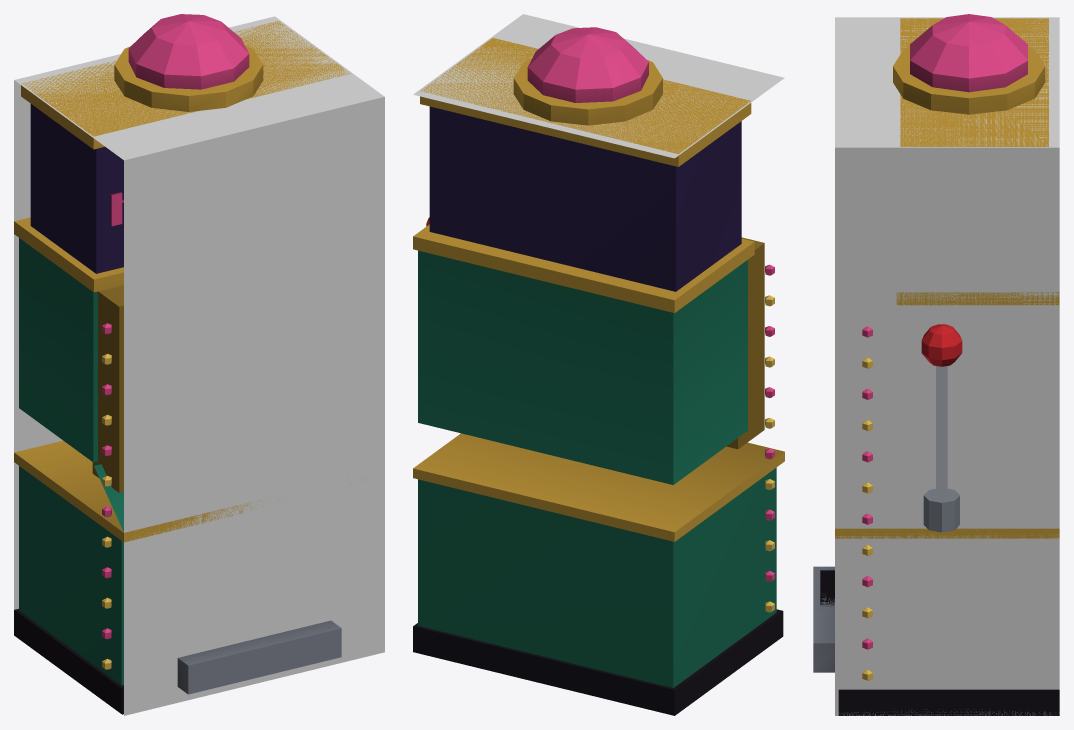
Rendered from slot_soup.glb.
3 renders of one model, left to right at view 1: azimuth 30°, elevation 25°; view 2: azimuth 150°, elevation 25°; view 3: azimuth 270°, elevation 25°, orthographic. The views are drawn at different scales.
Visible parts, largest first — view 1: COL_0, slot_soup; view 2: slot_soup, COL_0; view 3: COL_0, slot_soup, DYN_lever.
Part boxes in pixels (x1,y1,x2,y2): COL_0: [14, 16, 384, 715]; slot_soup: [14, 14, 350, 714]; slot_soup: [413, 27, 784, 715]; COL_0: [413, 14, 784, 158]; COL_0: [835, 17, 1059, 715]; slot_soup: [813, 14, 1059, 715]; DYN_lever: [921, 324, 962, 532].
Bounding box in the file's own units: 2 × 3.83 × 1.36.
